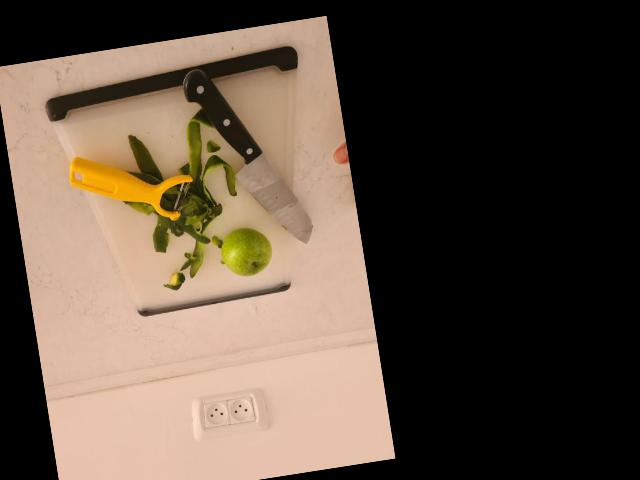apple: (219, 225, 271, 278)
